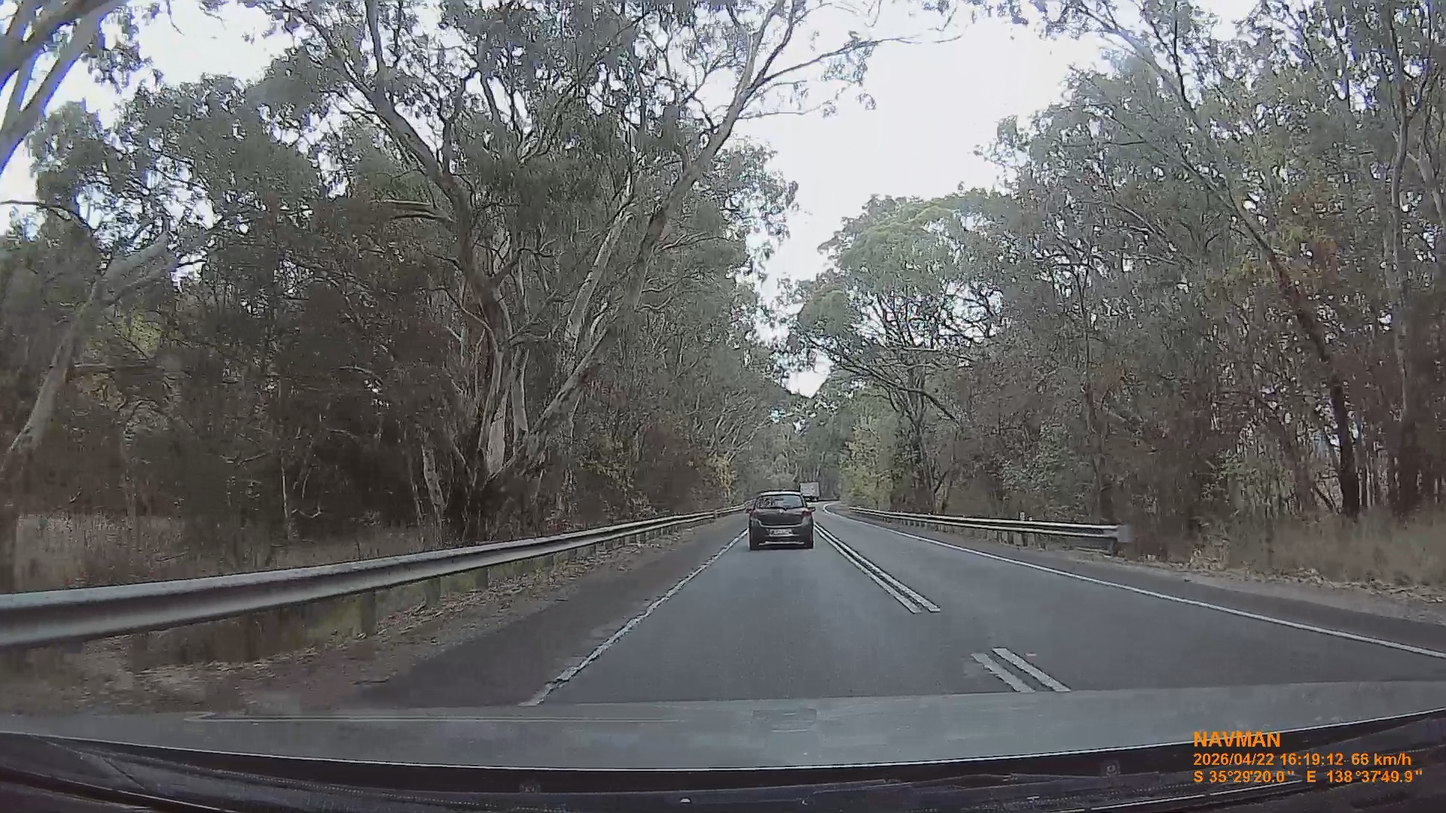road barriers: (2, 508, 731, 650), (828, 505, 1124, 550)
